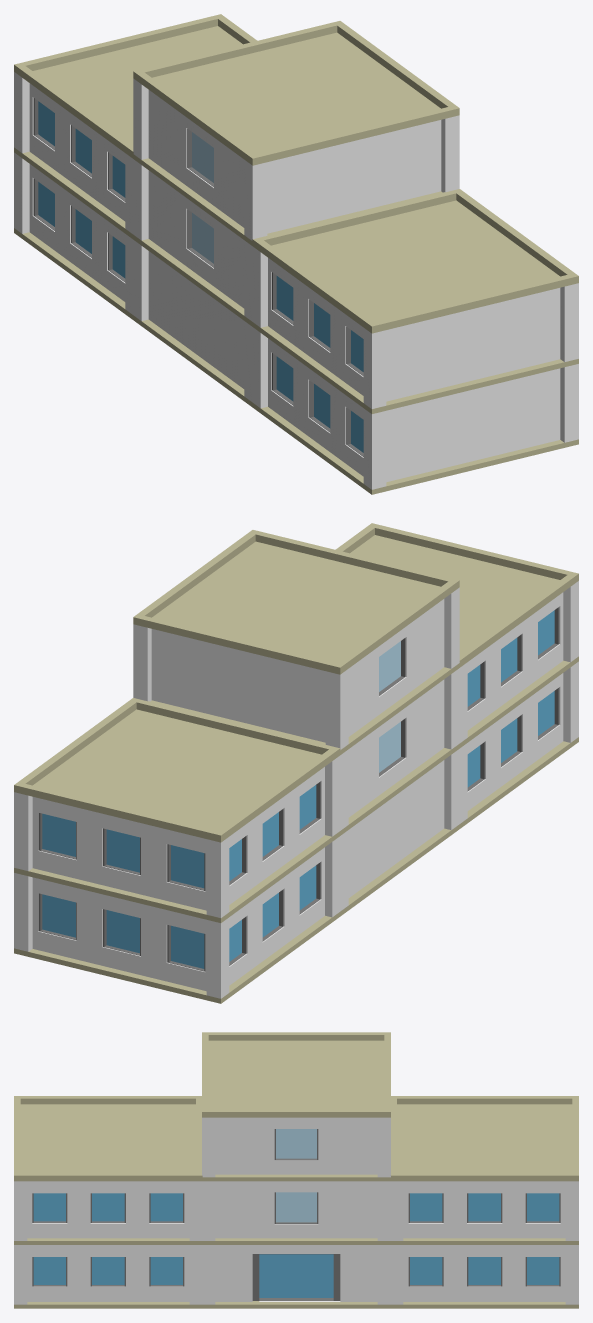
The model's file is building8.fbx.
3 views of the same model, one above another, from view 1: azimuth 30°, elevation 25°; view 2: azimuth 150°, elevation 25°; view 3: azimuth 270°, elevation 25° (orthographic). The views are drawn at different scales.
Parts seen in each view (by area): view 1: building_014.001; view 2: building_014.001; view 3: building_014.001.
Boxes of the visible parts, bbox=[...] form: building_014.001: bbox=[14, 14, 578, 494]; building_014.001: bbox=[14, 523, 578, 1003]; building_014.001: bbox=[14, 1032, 578, 1308].
Bounding box in the file's own units: 21.5 × 24.7 × 64.36.
